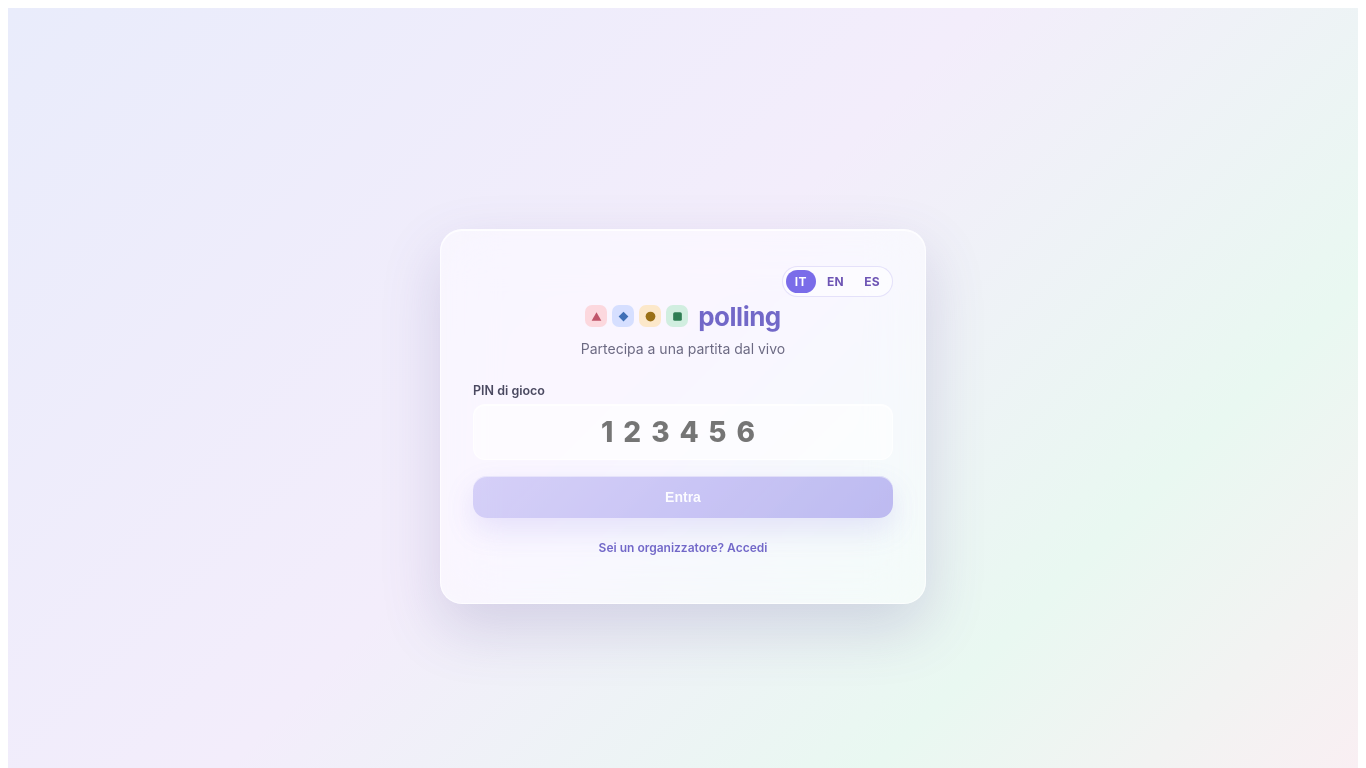
it: Join form › strips non-digits and caps input at 6 digits
Type "12ab34567890" into the field labelled "PIN di gioco".
click(683, 432); type("12ab34567890")  # box [473,404,893,460]
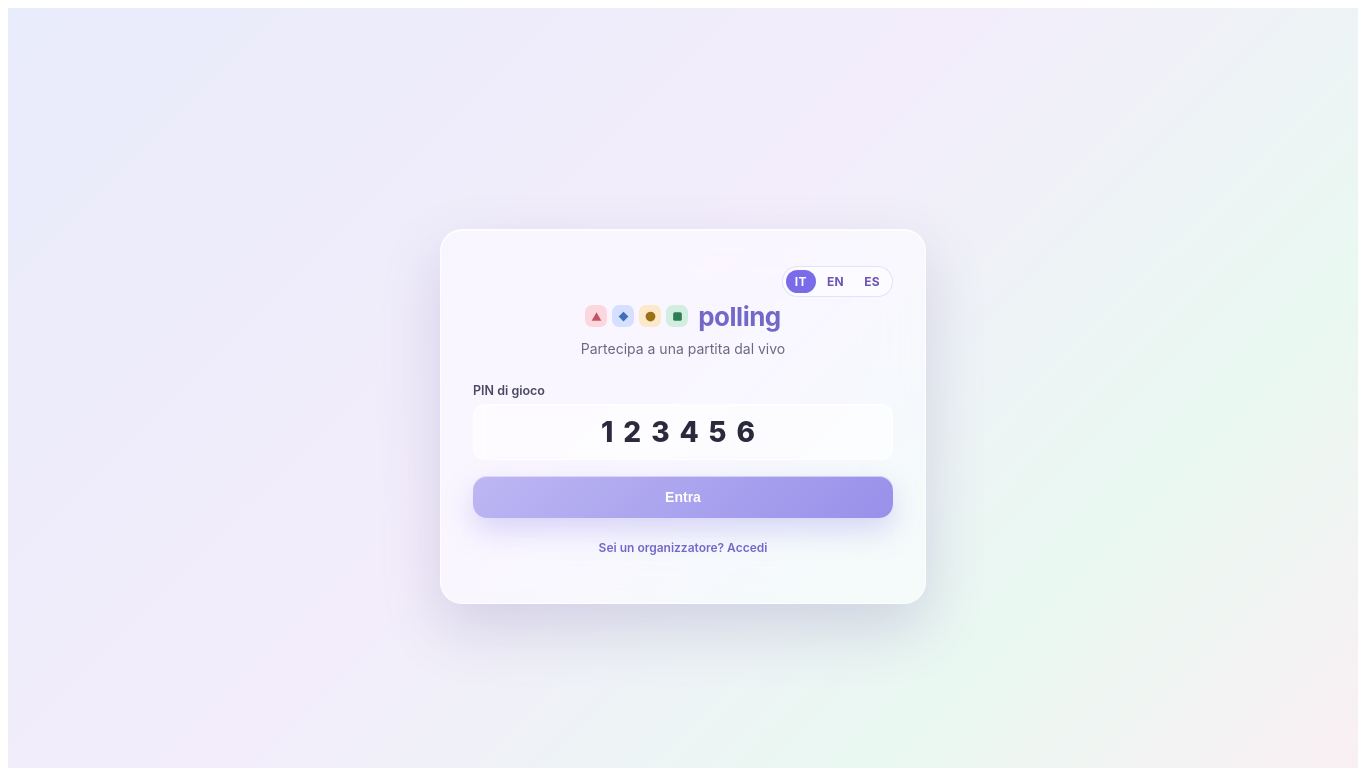
Now the field labelled "PIN di gioco" holds "123456", box [473,404,893,460]
